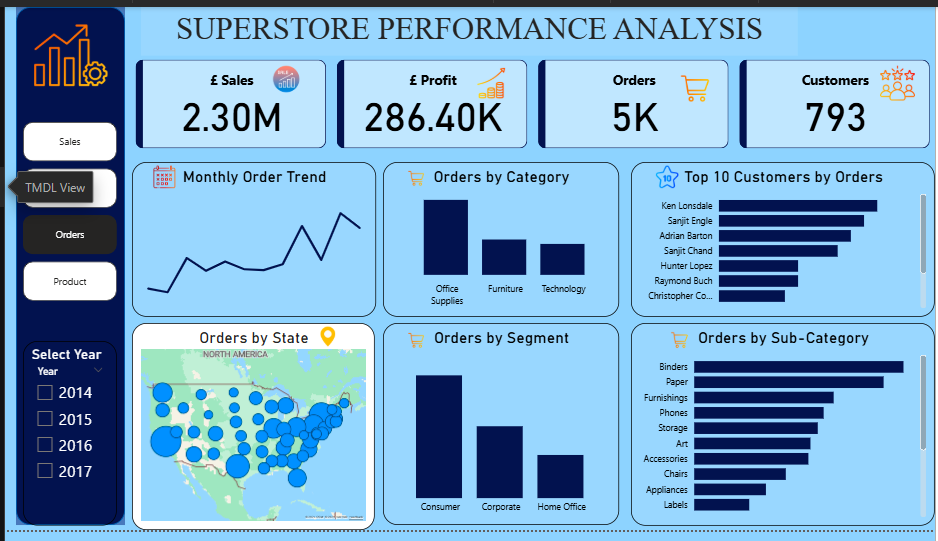

The page's visual inventory and layout, read from the dashboard file:
{"tool":"powerbi","page":{"name":"Orders","canvas":[1280,720],"ordinal":2},"visuals":[{"type":"clusteredBarChart","fields":{"Category":["Sheet1.Sub-Category"],"Y":["Sheet1.Orders"]},"box":[861.6,434.9,418.4,279.4],"z":0},{"type":"lineChart","title":"Monthly Order Trend","fields":{"Category":["Sheet1.Order Date.Variation.Date Hierarchy.Month"],"Y":["Sheet1.Orders"]},"box":[174.8,213.3,335.8,213.3],"z":1000},{"type":"clusteredColumnChart","title":"Orders by Category","fields":{"Category":["Sheet1.Category"],"Y":["Sheet1.Orders"]},"box":[520.3,213.3,324.8,213.3],"z":2000},{"type":"clusteredColumnChart","title":"Orders by Segment","fields":{"Category":["Sheet1.Segment"],"Y":["Sheet1.Orders"]},"box":[520.3,434.9,324.8,278],"z":3000},{"type":"azureMap","title":"Orders by State","fields":{"Values":["Sum(Sheet1.Sales)","Sheet1.State"],"Category":["Sheet1.State"],"Size":["Sheet1.Orders"]},"box":[174.8,434.9,334.4,284.9],"z":4000},{"type":"clusteredBarChart","title":"Top 10 Customers by Orders","fields":{"Category":["Sheet1.Customer Name"],"Y":["Sheet1.Orders"]},"box":[861.6,213.3,418.4,213.3],"z":5000},{"type":"textbox","box":[187.2,0,904.3,67.4],"z":6000},{"type":"shape","box":[15.1,0,150,713],"z":6500},{"type":"pageNavigator","box":[24.8,158.3,129.4,246.4],"z":8000},{"type":"slicer","title":"Select Year","fields":{"Values":["Sheet1.Order Date.Variation.Date Hierarchy.Year"]},"box":[25.2,460.3,129.3,253.7],"z":9001},{"type":"cardVisual","fields":{"Data":["Sheet1.£ Sales","Sheet1.£ Profit","Sheet1.Orders","Sheet1.Customers"]},"box":[174.8,67.4,1105.2,132.1],"z":9002},{"type":"image","box":[622.1,75.7,93.6,57.8],"z":9003},{"type":"image","box":[911.1,75.7,77.1,73],"z":9004},{"type":"image","box":[1186.4,75.7,84,57.8],"z":9005},{"type":"image","box":[360.6,75.7,52.3,46.8],"z":9006},{"type":"image","box":[15.1,11,150,111.5],"z":9007},{"type":"image","box":[880.9,213.3,60.6,41.3],"z":9008},{"type":"image","box":[412.9,434.9,63.3,37.2],"z":9009},{"type":"image","box":[898.8,434.9,59.2,46.8],"z":9010},{"type":"image","box":[535.4,436.3,61.9,45.4],"z":9012},{"type":"image","box":[535.4,213.3,61.9,45.4],"z":9013},{"type":"image","box":[196.8,213.3,44,41.3],"z":9014}]}

Visuals, with their boxes in screenshot pixels (x1, y1, x2, y2), scaled from the page's 1280x720 canvas onto the 938x541 screenshot:
clusteredBarChart - Sheet1.Sub-Category x Sheet1.Orders: x1=631, y1=327, x2=937, y2=537
"Monthly Order Trend" lineChart: x1=128, y1=160, x2=374, y2=321
"Orders by Category" clusteredColumnChart: x1=381, y1=160, x2=619, y2=321
"Orders by Segment" clusteredColumnChart: x1=381, y1=327, x2=619, y2=536
"Orders by State" azureMap: x1=128, y1=327, x2=373, y2=540
"Top 10 Customers by Orders" clusteredBarChart: x1=631, y1=160, x2=937, y2=321
textbox: x1=137, y1=0, x2=800, y2=51
shape: x1=11, y1=0, x2=121, y2=536
pageNavigator: x1=18, y1=119, x2=113, y2=304
"Select Year" slicer: x1=18, y1=346, x2=113, y2=536
cardVisual - Sheet1.£ Sales x Sheet1.£ Profit: x1=128, y1=51, x2=937, y2=150
image: x1=456, y1=57, x2=524, y2=100
image: x1=668, y1=57, x2=724, y2=112
image: x1=869, y1=57, x2=931, y2=100
image: x1=264, y1=57, x2=303, y2=92
image: x1=11, y1=8, x2=121, y2=92
image: x1=646, y1=160, x2=690, y2=191
image: x1=303, y1=327, x2=349, y2=355
image: x1=659, y1=327, x2=702, y2=362
image: x1=392, y1=328, x2=438, y2=362
image: x1=392, y1=160, x2=438, y2=194
image: x1=144, y1=160, x2=176, y2=191
